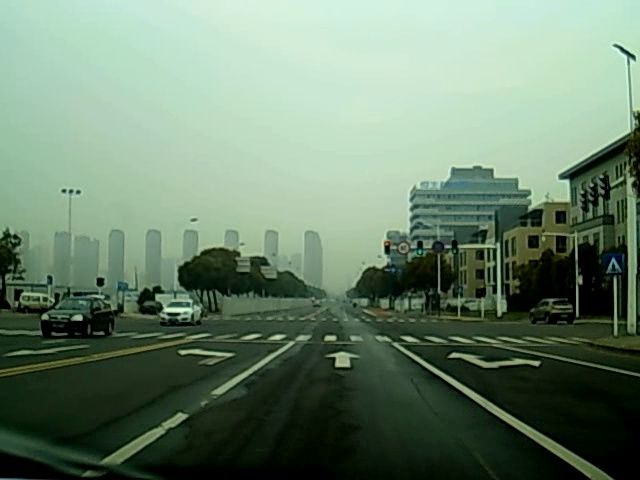Traffic_Light_go: (450, 239, 458, 256), (417, 241, 425, 256)
Traffic_Light_stop: (383, 239, 391, 257)
